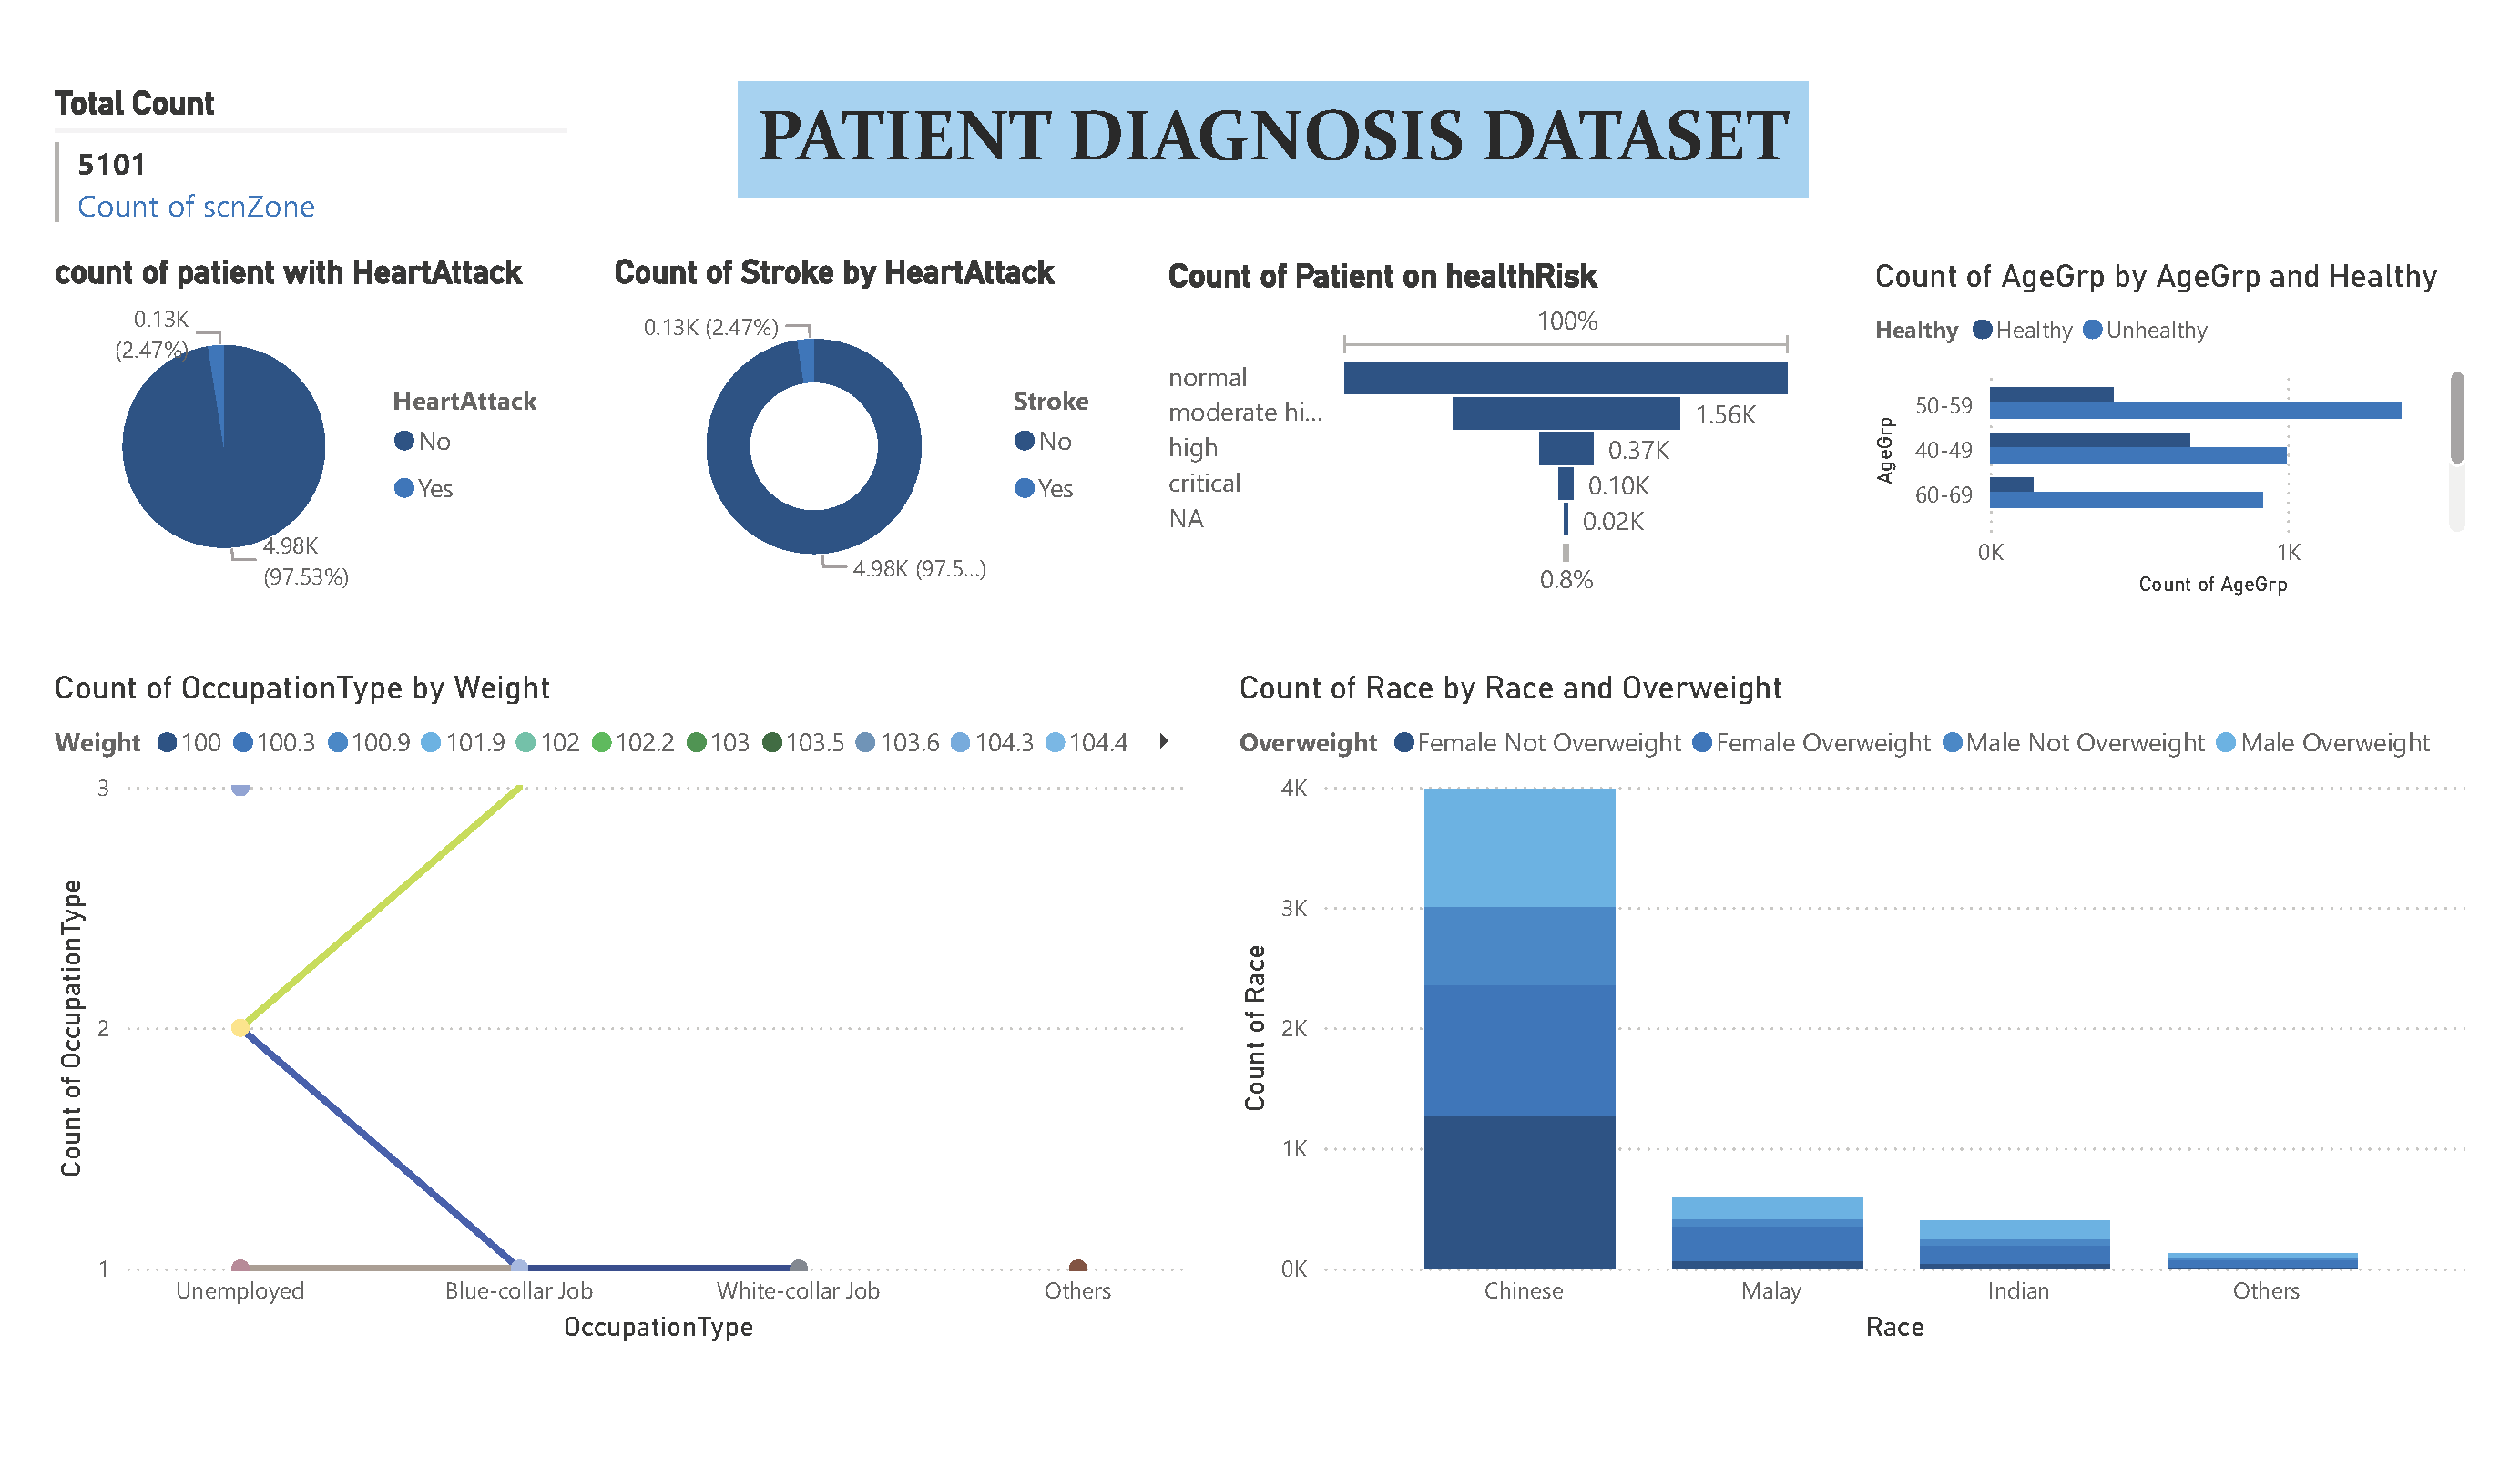

The page's visual inventory and layout, read from the dashboard file:
{"tool":"powerbi","page":{"name":"Page 1","canvas":[1280,720],"ordinal":0},"visuals":[{"type":"multiRowCard","title":"Total Count","fields":{"Values":["Table1.scnZone"]},"box":[0,19.6,280,78.3],"z":0},{"type":"pieChart","title":"count  of patient with HeartAttack ","fields":{"Category":["Table1.HeartAttack"],"Y":["CountNonNull(Table1.HeartAttack)"]},"box":[0,108.8,280,185.9],"z":1000},{"type":"donutChart","fields":{"Category":["Table1.HeartAttack"],"Y":["CountNonNull(Table1.Stroke)"]},"box":[294.7,108.8,280,185.9],"z":2000},{"type":"textbox","box":[365,19.2,564,60.4],"z":3000},{"type":"funnel","title":"Count of Patient on healthRisk ","fields":{"Y":["CountNonNull(Table1.healthRisk)"],"Category":["Table1.healthRisk"]},"box":[587,111.3,341.2,183.4],"z":4000},{"type":"lineChart","title":"Count of OccupationType by Weight","fields":{"Category":["Table1.OccupationType"],"Y":["CountNonNull(Table1.OccupationType)"],"Series":["Table1.Weight"]},"box":[0,327.7,607.7,360.7],"z":5000},{"type":"columnChart","fields":{"Category":["Table1.Race"],"Y":["CountNonNull(Table1.Race)"],"Series":["Table1.Overweight"]},"box":[623.6,327.7,656.7,360.7],"z":6000},{"type":"clusteredBarChart","fields":{"Category":["Table1.AgeGrp"],"Y":["CountNonNull(Table1.AgeGrp)"],"Series":["Table1.Healthy"]},"box":[959,111,321,184],"z":7000}]}

Visuals, with their boxes in screenshot pixels (x1, y1, x2, y2):
"Total Count" multiRowCard: l=46, t=83, r=576, b=231
"count  of patient with HeartAttack " pieChart: l=46, t=252, r=576, b=605
donutChart - Table1.HeartAttack x CountNonNull(Table1.Stroke): l=605, t=252, r=1136, b=605
textbox: l=739, t=82, r=1809, b=197
"Count of Patient on healthRisk " funnel: l=1159, t=257, r=1807, b=605
"Count of OccupationType by Weight" lineChart: l=46, t=667, r=1199, b=1351
columnChart - Table1.Race x CountNonNull(Table1.Race): l=1229, t=667, r=2474, b=1351
clusteredBarChart - Table1.AgeGrp x CountNonNull(Table1.AgeGrp): l=1865, t=256, r=2474, b=606
